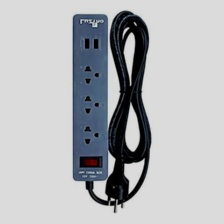three_eye_plug: (68, 12, 110, 183)
